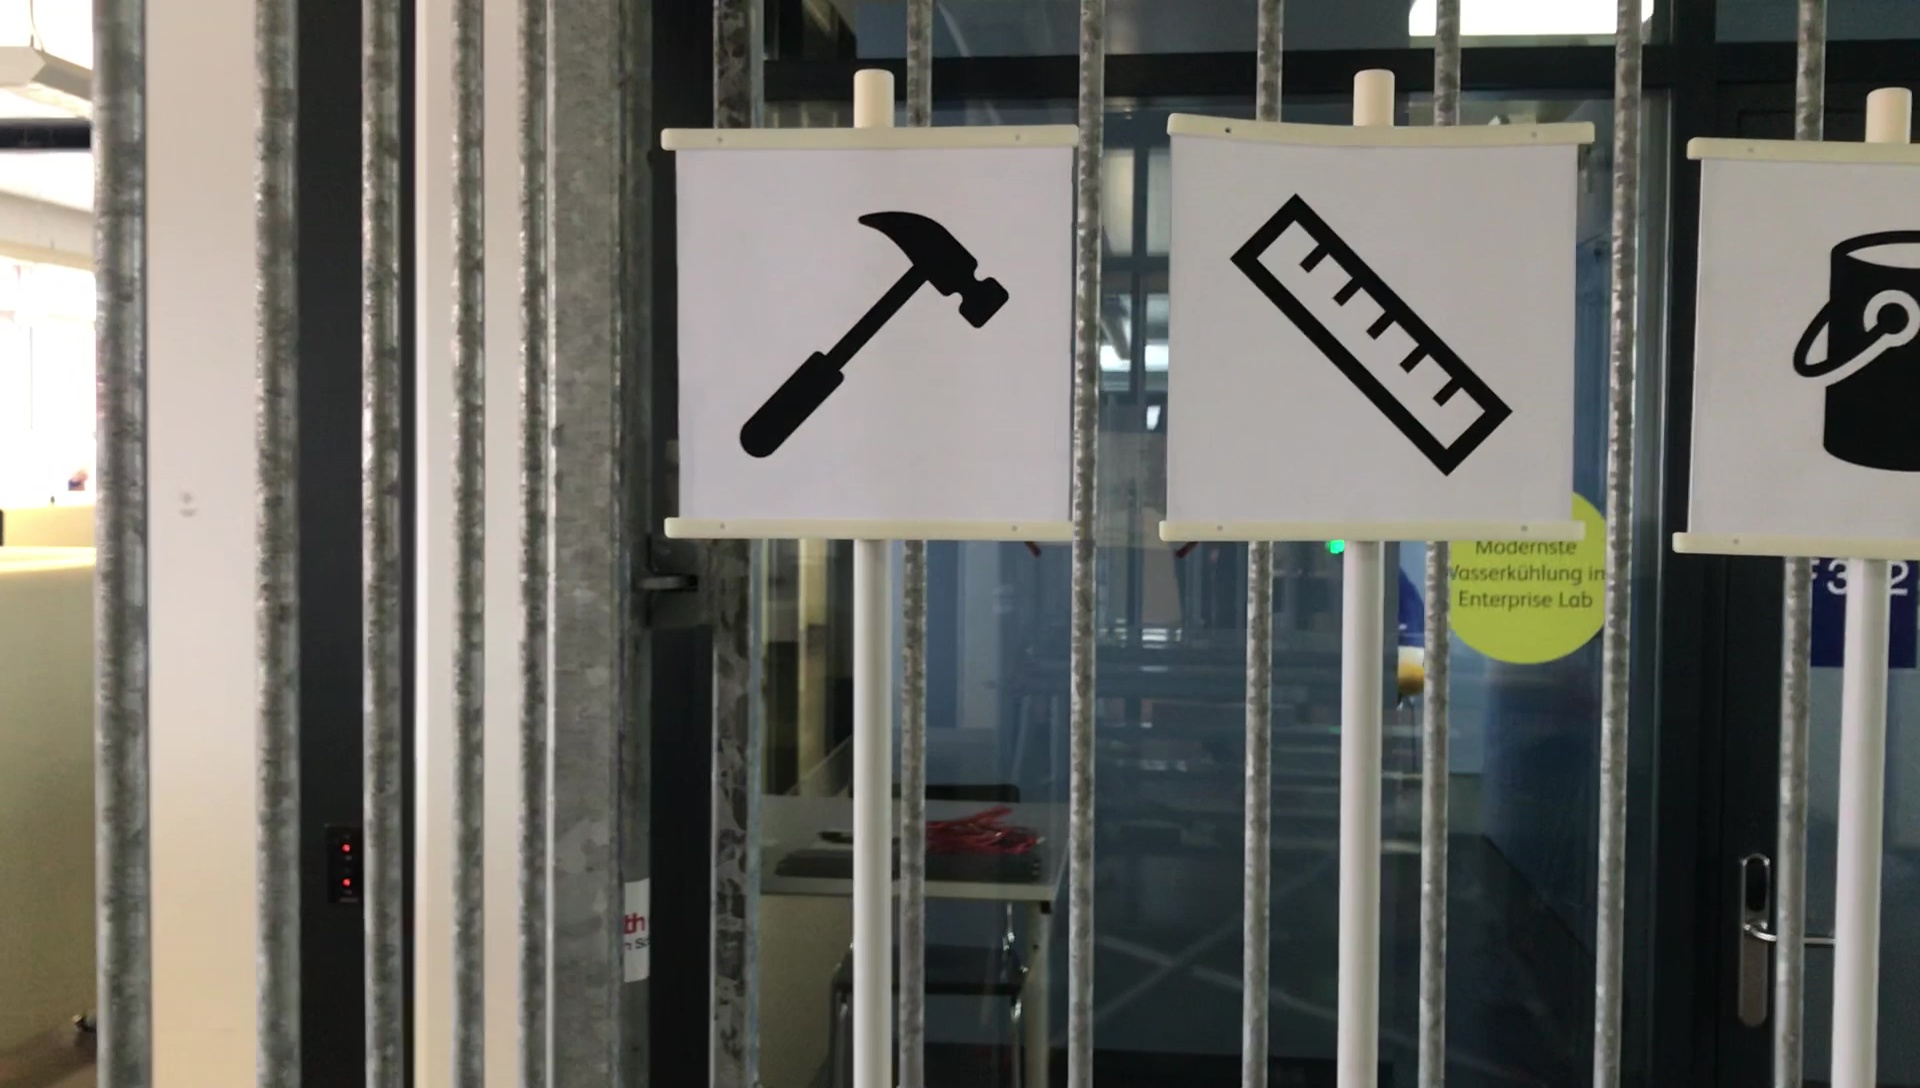bucket: (1784, 216, 1920, 466)
hammer: (735, 203, 1014, 471)
ruler: (1222, 171, 1514, 495)
